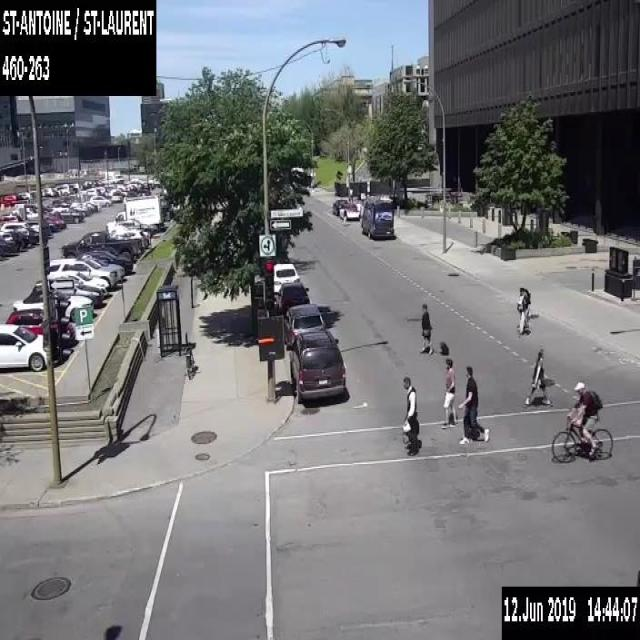cyclist: (549, 377, 613, 463)
pedestrian: (457, 364, 490, 444), (400, 375, 421, 456), (523, 348, 551, 407), (420, 301, 449, 356), (442, 356, 457, 427), (515, 285, 532, 336), (342, 206, 347, 225)
vehicle: (286, 329, 346, 403), (5, 307, 75, 346), (61, 230, 143, 261), (13, 291, 93, 321), (106, 192, 163, 233), (0, 322, 46, 370), (46, 258, 117, 289), (283, 302, 325, 350), (32, 269, 109, 295), (76, 244, 132, 274), (361, 195, 394, 239), (274, 281, 310, 315), (49, 282, 103, 303), (85, 255, 124, 281), (273, 260, 299, 297), (0, 220, 39, 242), (115, 217, 154, 237), (111, 228, 146, 248), (2, 227, 29, 250), (27, 218, 50, 236), (338, 201, 360, 219), (59, 206, 83, 222), (0, 228, 15, 252), (12, 202, 32, 219), (43, 213, 65, 228), (70, 201, 90, 215), (89, 194, 112, 206), (0, 212, 21, 225), (0, 193, 21, 206), (331, 198, 348, 214), (53, 182, 73, 195), (18, 190, 36, 203), (83, 198, 101, 210), (109, 188, 122, 202), (108, 187, 128, 196), (49, 204, 69, 213), (41, 186, 57, 197), (90, 185, 106, 194), (82, 179, 95, 189), (85, 187, 100, 195), (52, 199, 69, 206), (138, 188, 150, 196), (69, 182, 78, 192), (126, 190, 138, 196), (86, 203, 94, 211)
